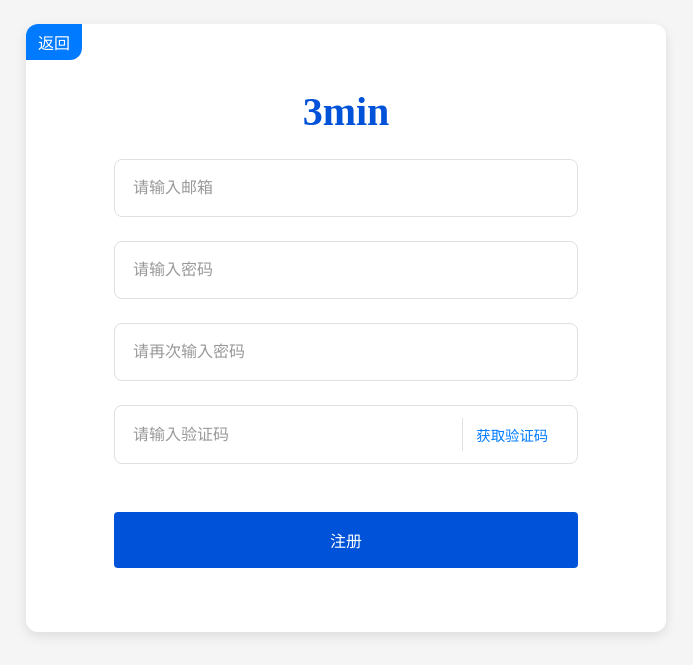
Test: Register Page › 点击密码框的眼睛按钮切换输入类型
In the password field with placeholder "请输入密码": (346, 270) [131,260,561,280], type "123456"
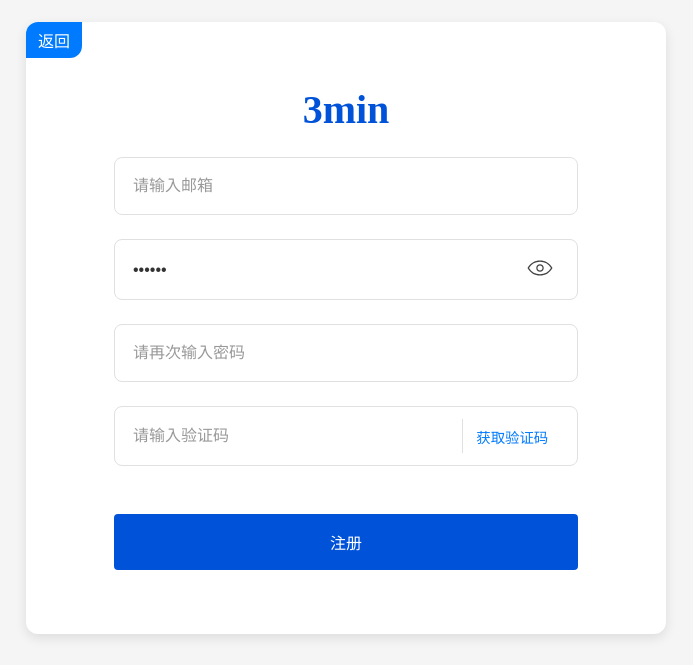
Click the button named "显示密码": (540, 270) [519,252,561,287]
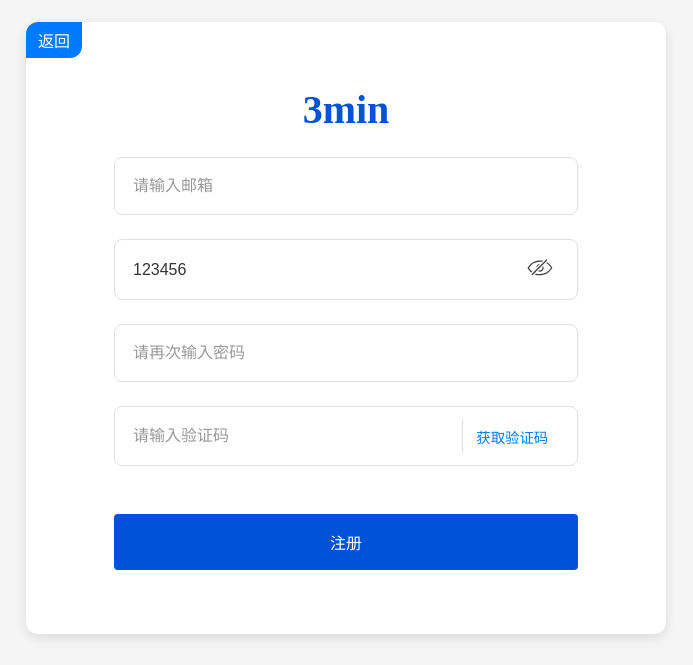
Result: the field with placeholder "请输入密码" shows its text at [131,260,519,280]
Click the button named "显示密码": (540, 270) [519,252,561,287]
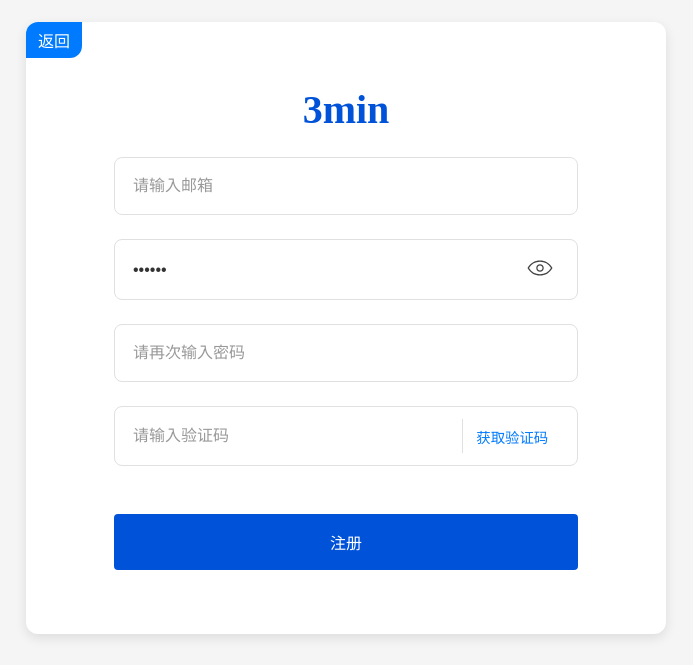
Result: the password field with placeholder "请输入密码" hides its text at [131,260,519,280]
